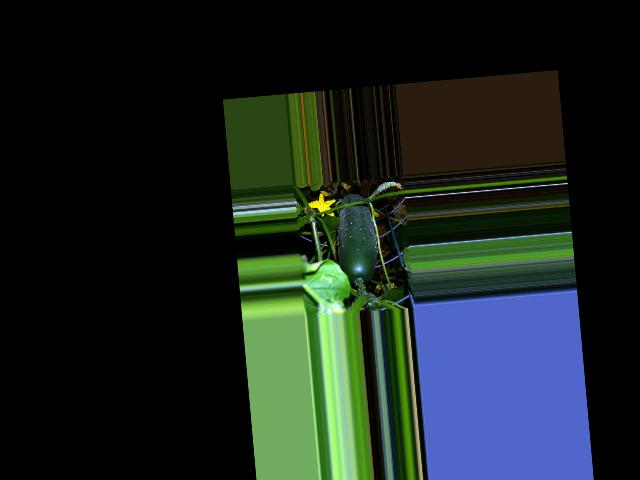cucumber: (333, 192, 381, 286)
